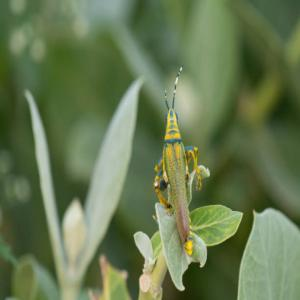locust: (150, 46, 210, 276)
